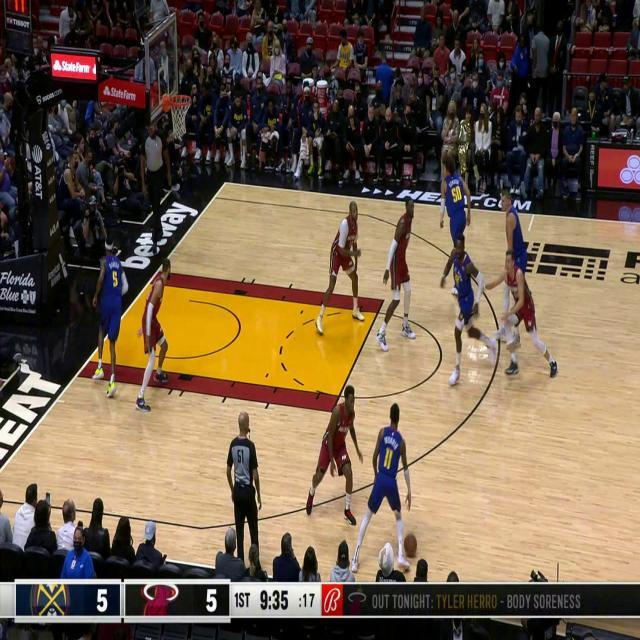rim: (404, 533, 418, 556)
